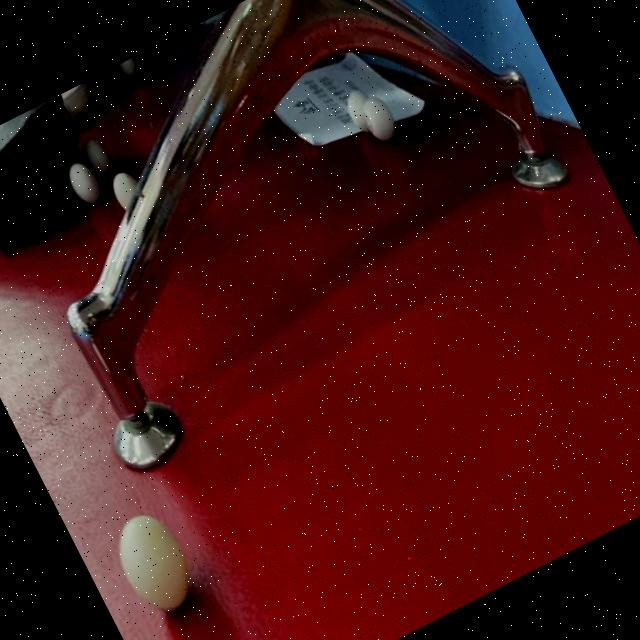ping-pong-ball: (100, 498, 210, 628), (351, 84, 407, 150), (59, 150, 112, 217)
